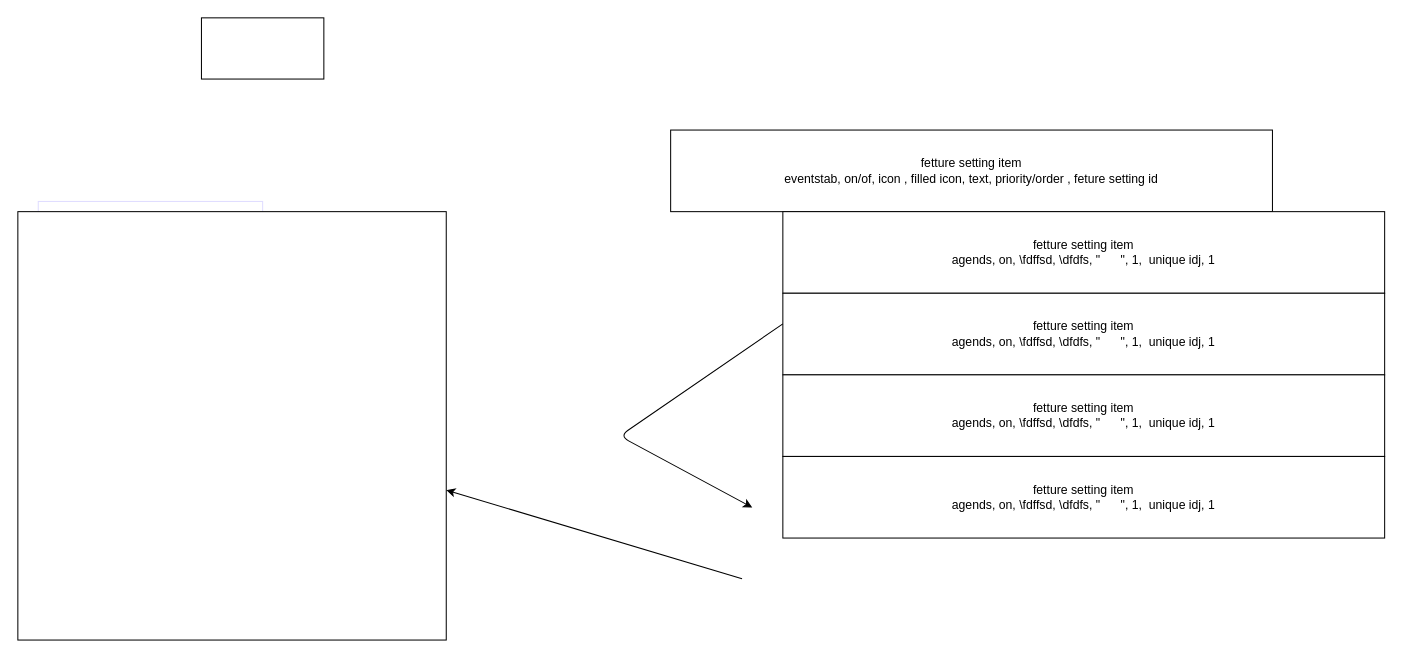
This 1403x658 diagram has some shape labels left out. The shapes that lost their labels are listed below. From the top down, each one's centre as x and y in pixels, then its label:
point (262, 48): event
point (231, 425): feature setting event id refrence
